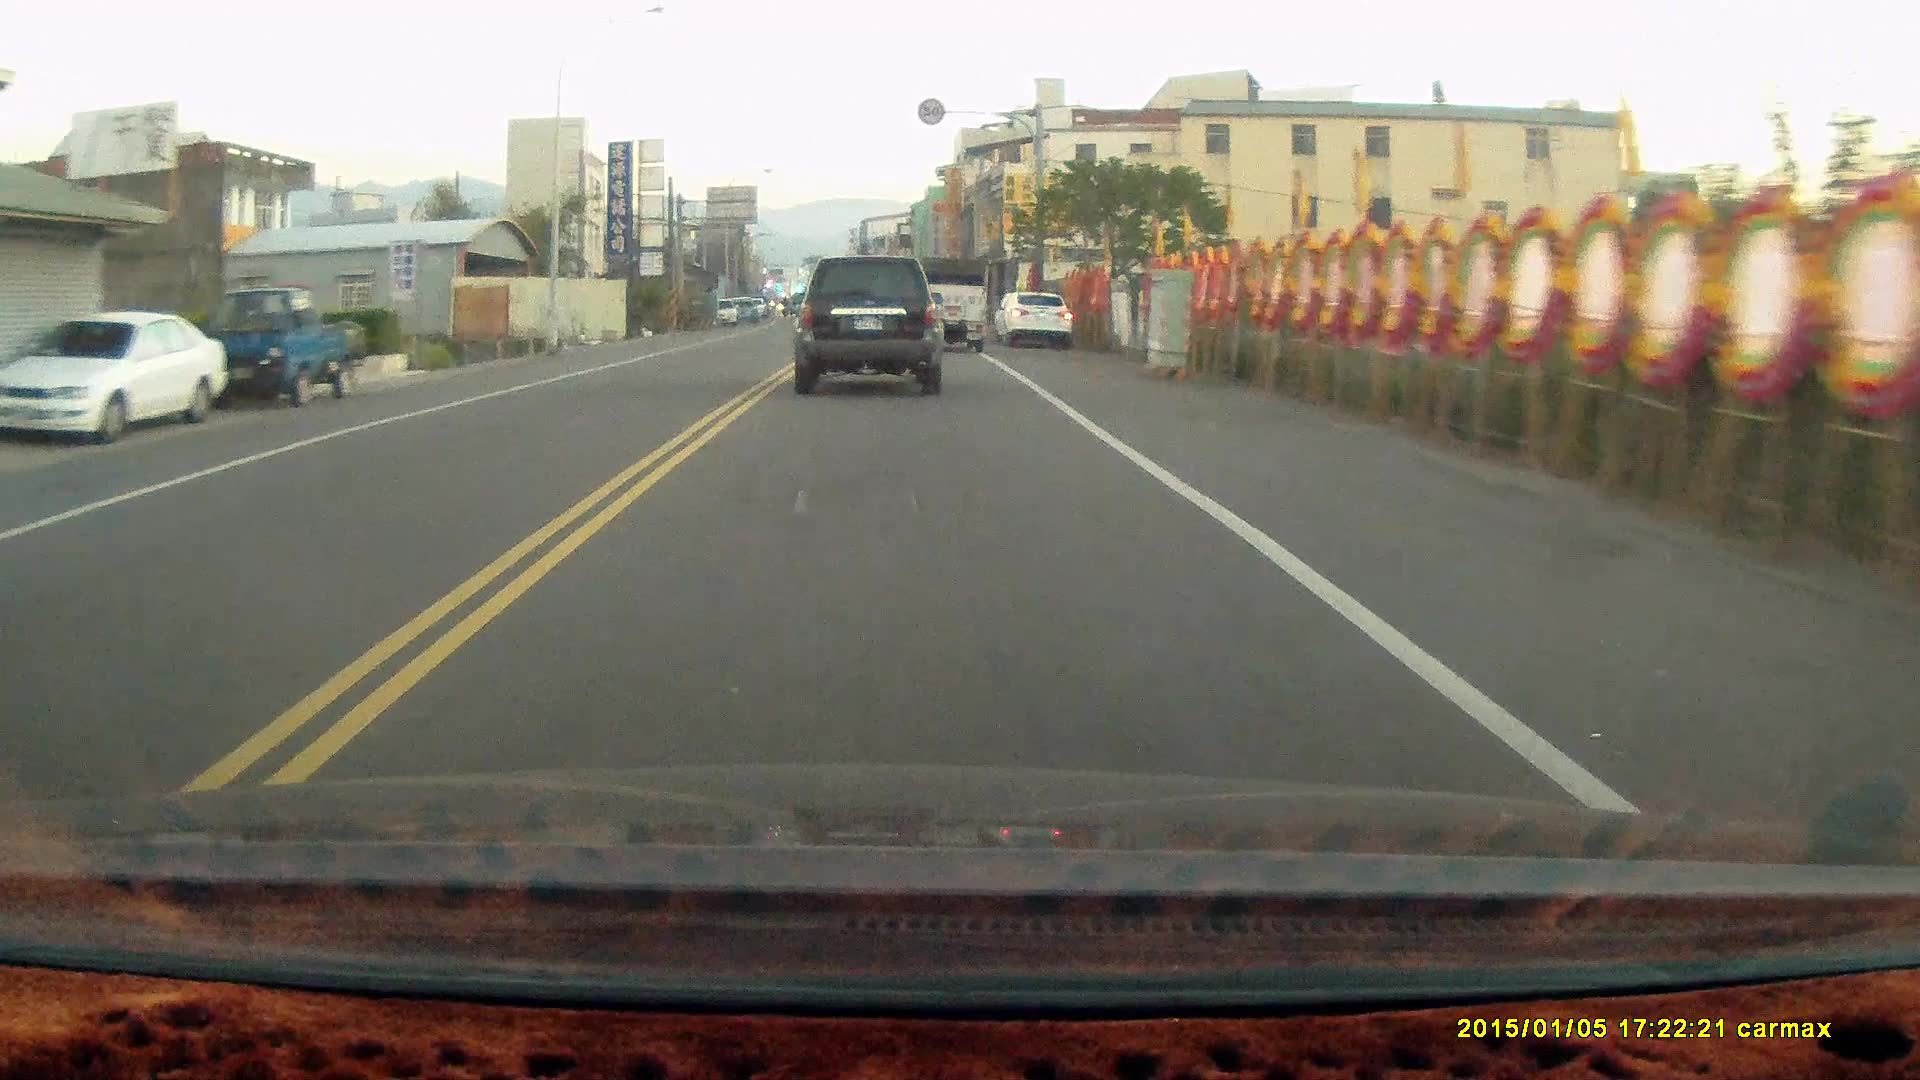vehicle: (1, 309, 236, 434), (189, 284, 368, 410), (795, 256, 945, 397), (913, 253, 992, 349), (1000, 286, 1075, 347)
